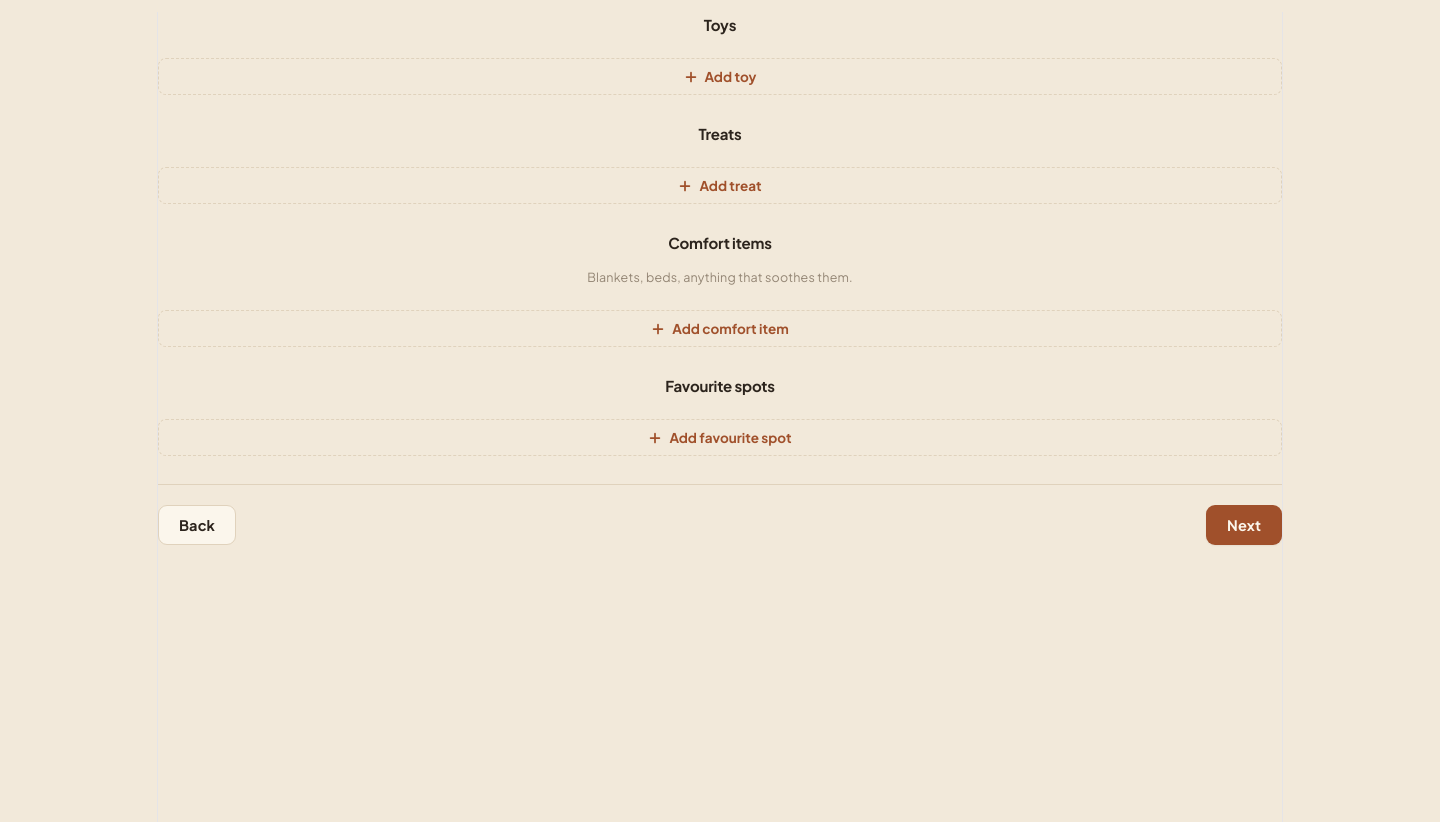
FavoritesStep treat entries › clicking Remove treat removes the entry
Click the button "Add treat": x=720, y=186 left=158, top=167, right=1282, bottom=204
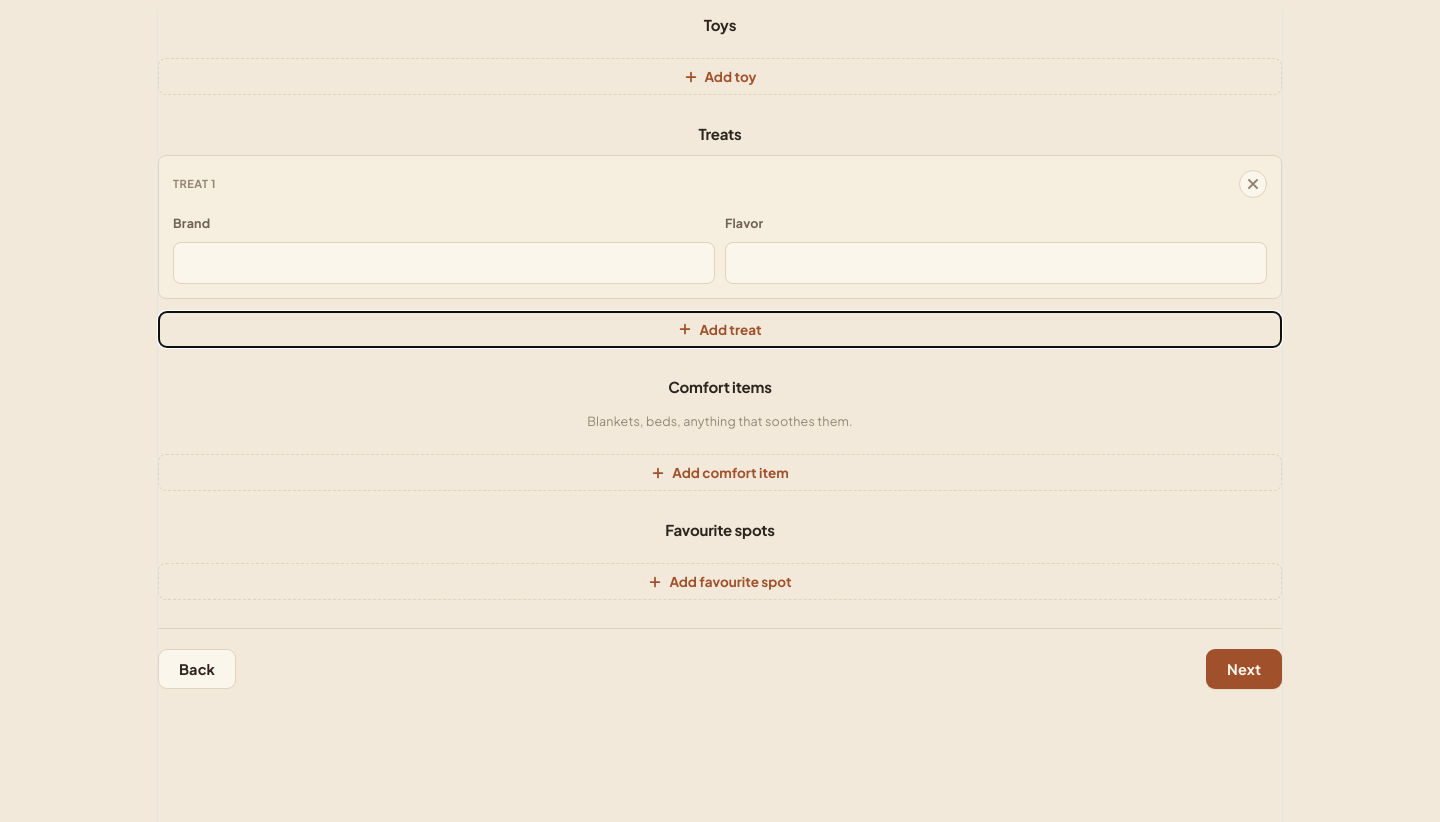
Click the button named "remove treat": x=1253, y=184 left=1239, top=170, right=1267, bottom=198
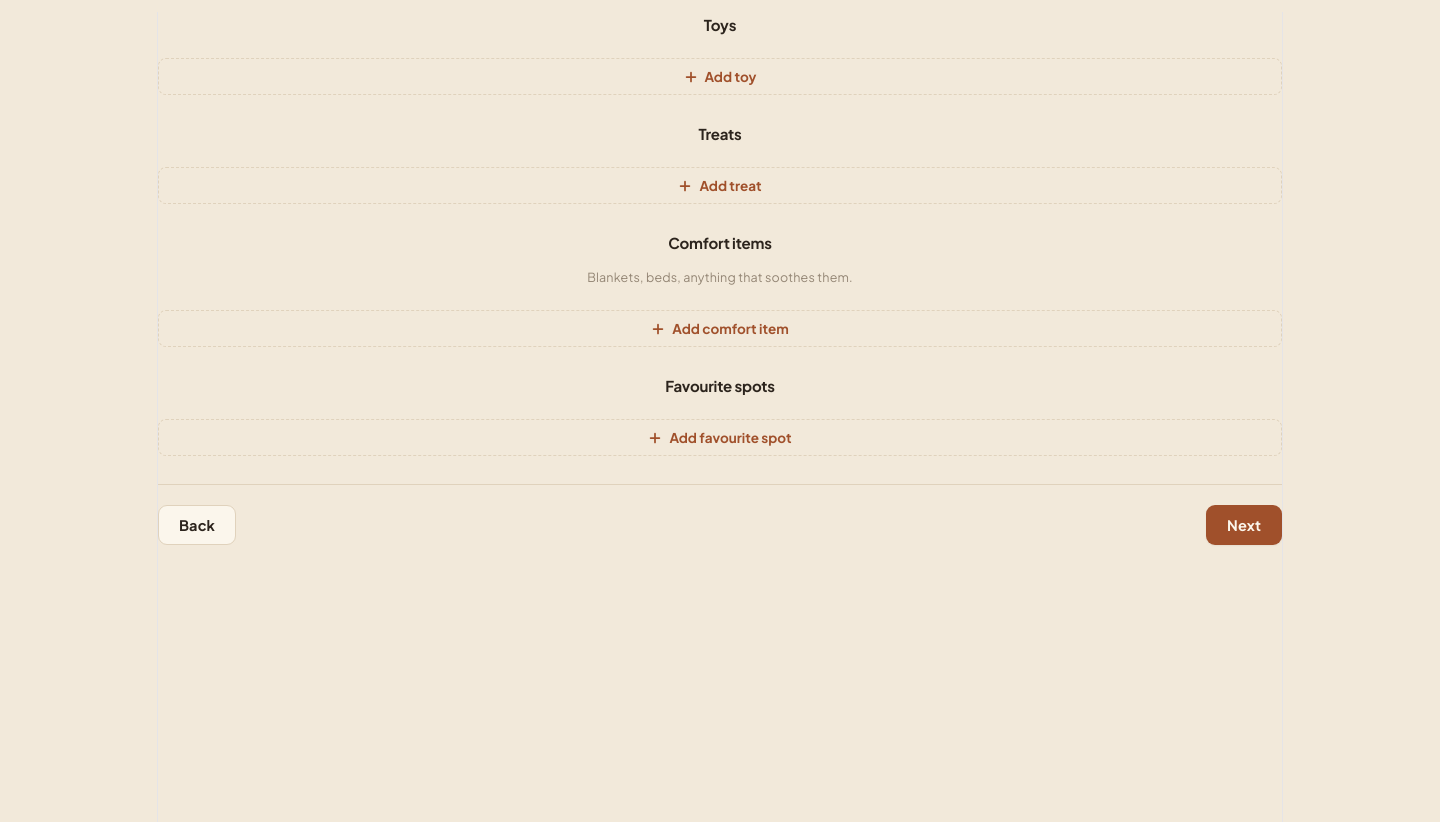
Check: no elements with test id "treat-entry" are shown
